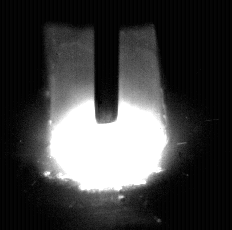arame: (95, 0, 120, 124)
poca: (50, 0, 171, 230)
